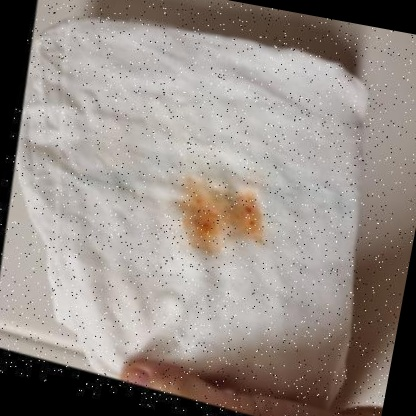kimchi: (170, 169, 273, 268)
